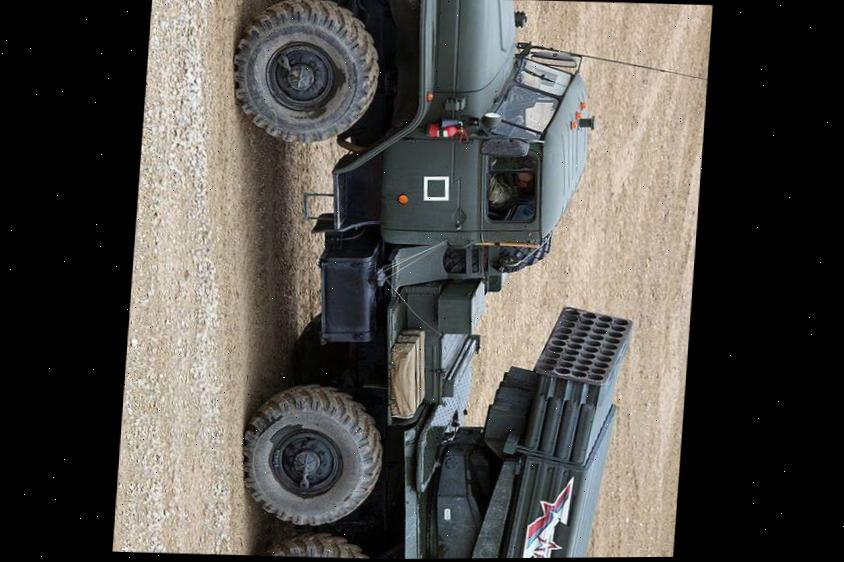rszo: (224, 0, 674, 560)
